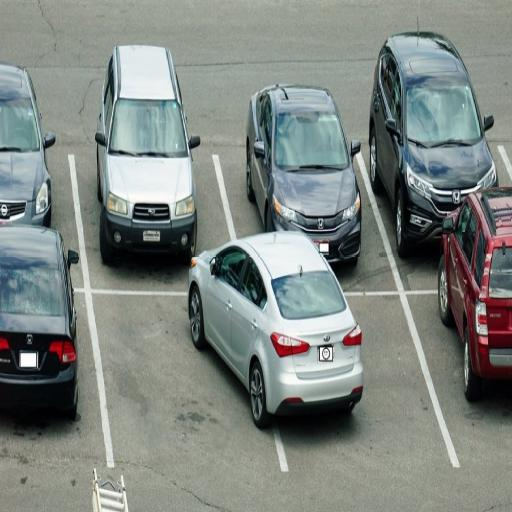Illegal-parking: (164, 188, 388, 472)
Slot-occupied: (355, 5, 512, 257), (76, 18, 210, 278)
